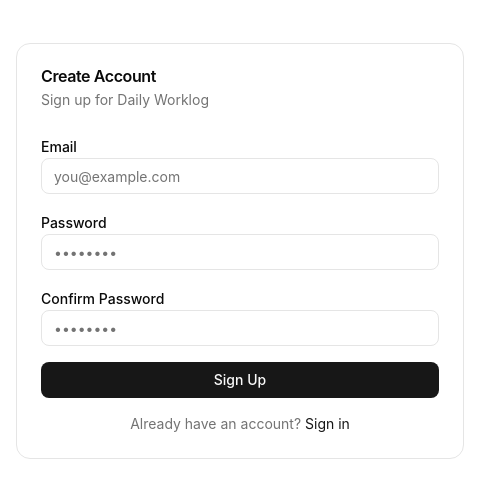
Test: Signup Page › shows validation errors for invalid input
This screenshot has width=481, height=503.
Click the button "Sign Up" at (240, 380), box [41,362,439,398]
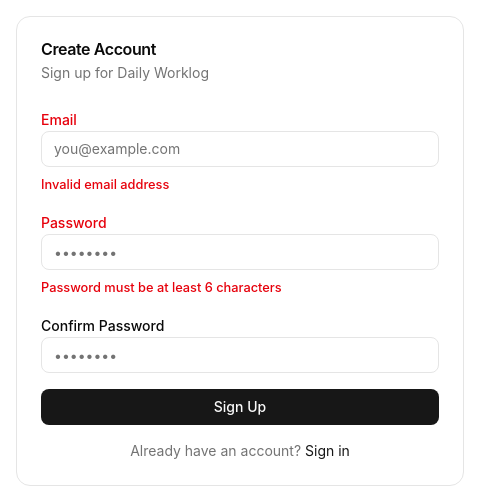
Expected: the text "Invalid email address" is shown, [41,177,169,192]
Expected: the text "Password must be at least 6 characters" is shown, [41,280,282,295]
